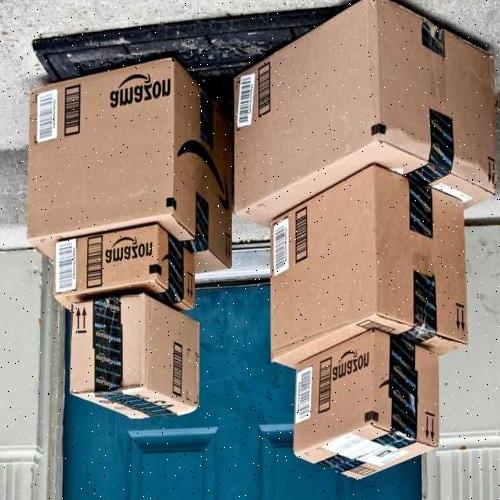Amazon: (232, 2, 499, 213), (11, 68, 235, 274), (269, 184, 462, 372), (290, 339, 445, 484), (68, 294, 200, 424), (52, 229, 193, 312)
